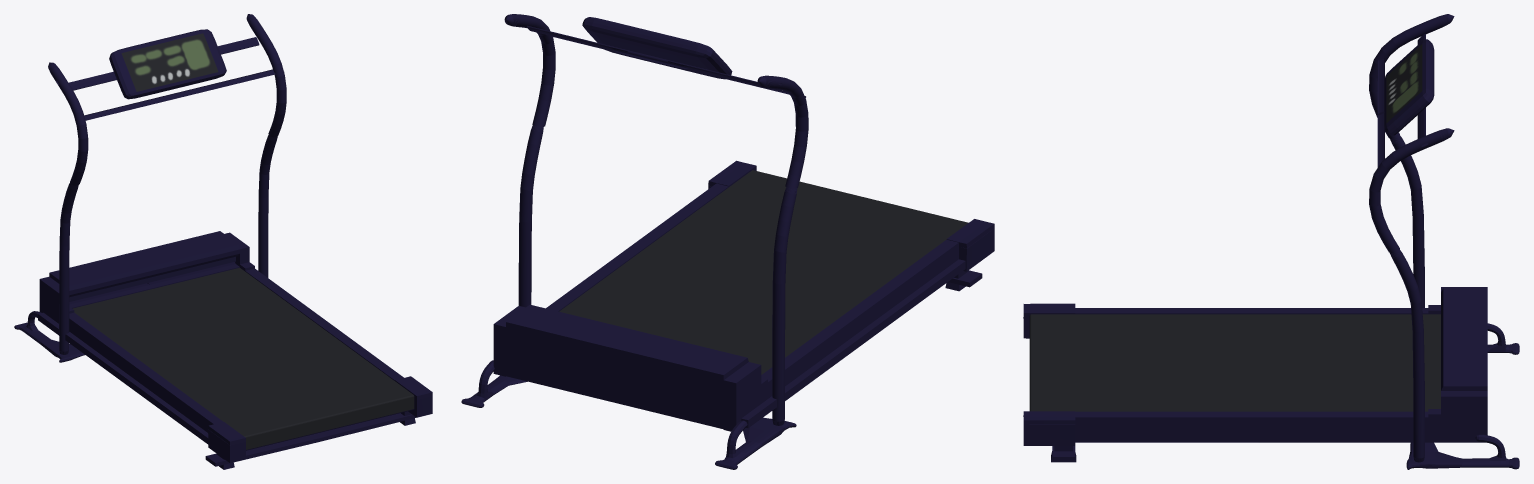
Rendered from treadmill.fbx.
The picture shows the model from 3 angles, left to right: view 1: azimuth 30°, elevation 25°; view 2: azimuth 150°, elevation 25°; view 3: azimuth 270°, elevation 25°; orthographic projection. The views are drawn at different scales.
Parts seen in each view (by area): view 1: Cube, Cylinder; view 2: Cube, Cylinder; view 3: Cube, Cylinder.
Boxes of the visible parts, <box> form: Cube: <box>38,231,432,469</box>; Cylinder: <box>14,14,286,362</box>; Cube: <box>493,160,994,431</box>; Cylinder: <box>461,14,808,469</box>; Cube: <box>1023,287,1487,462</box>; Cylinder: <box>1369,14,1519,469</box>.
Size of the model in its own units: 65.53 by 83.58 by 109.
4 materials, 1 textured.
